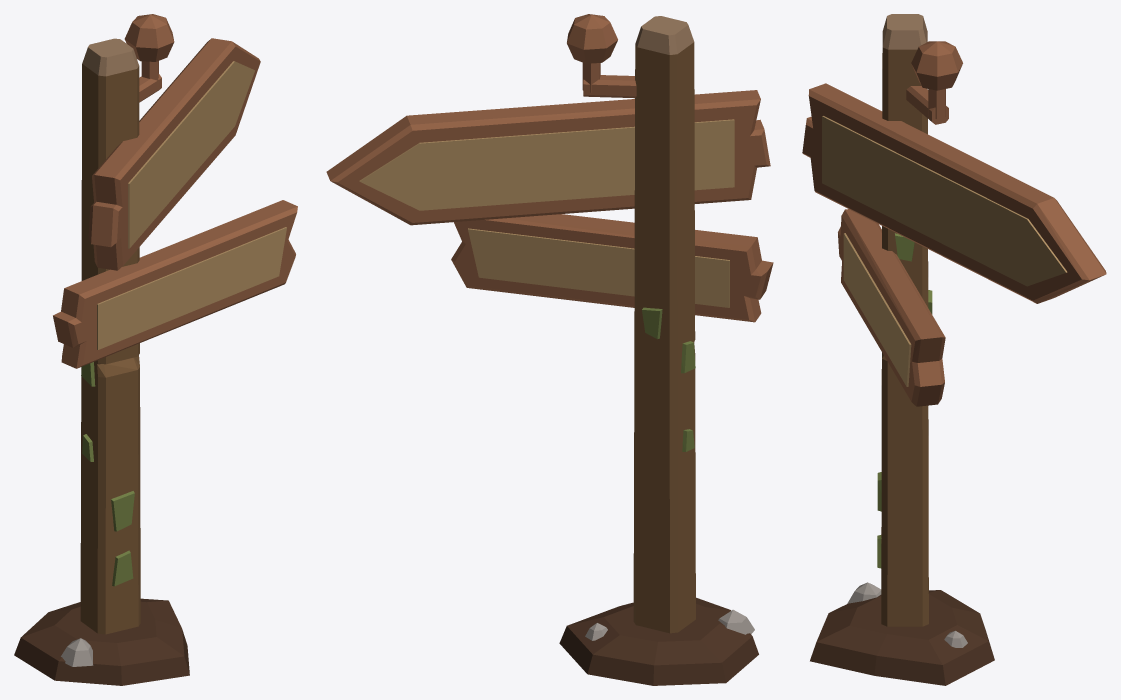
Rendered from signpost-0bf523.glb.
The picture shows the model from 3 angles, left to right: view 1: azimuth 30°, elevation 25°; view 2: azimuth 150°, elevation 25°; view 3: azimuth 270°, elevation 25°; orthographic projection. The views are drawn at different scales.
Visible parts, largest first — view 1: post, board-mid-plank, board-top-plank, finial-ball; view 2: post, board-top-plank, board-mid-plank, finial-ball; view 3: board-top-plank, post, board-mid-plank, finial-ball.
Part boxes in pixels (<box>): post: <box>14,38,189,685</box>; board-mid-plank: <box>53,200,297,368</box>; board-top-plank: <box>88,38,260,270</box>; finial-ball: <box>124,14,174,102</box>; post: <box>559,16,758,685</box>; board-top-plank: <box>326,90,770,225</box>; board-mid-plank: <box>451,214,773,322</box>; finial-ball: <box>567,14,636,98</box>; board-top-plank: <box>802,83,1106,303</box>; post: <box>810,14,994,685</box>; board-mid-plank: <box>838,209,945,406</box>; finial-ball: <box>906,41,962,124</box>.
Bounding box in the file's own units: 0.9886 × 1.83 × 0.7973.
